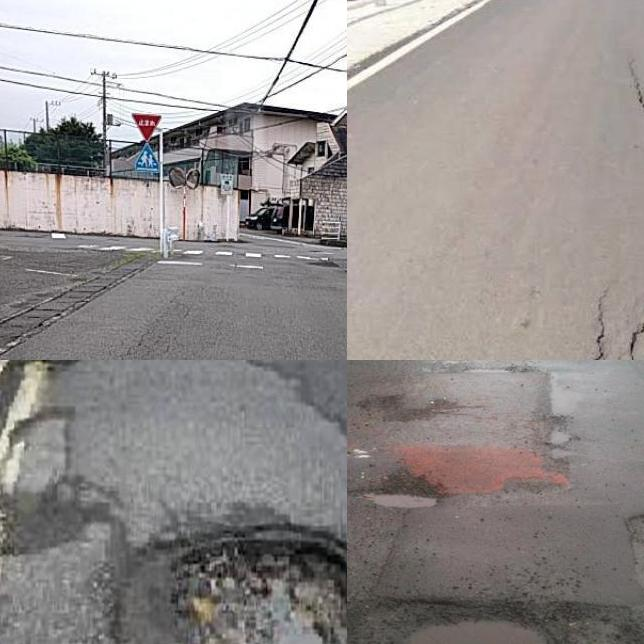Lubang: (171, 530, 347, 644), (347, 601, 644, 644), (357, 479, 440, 515)
